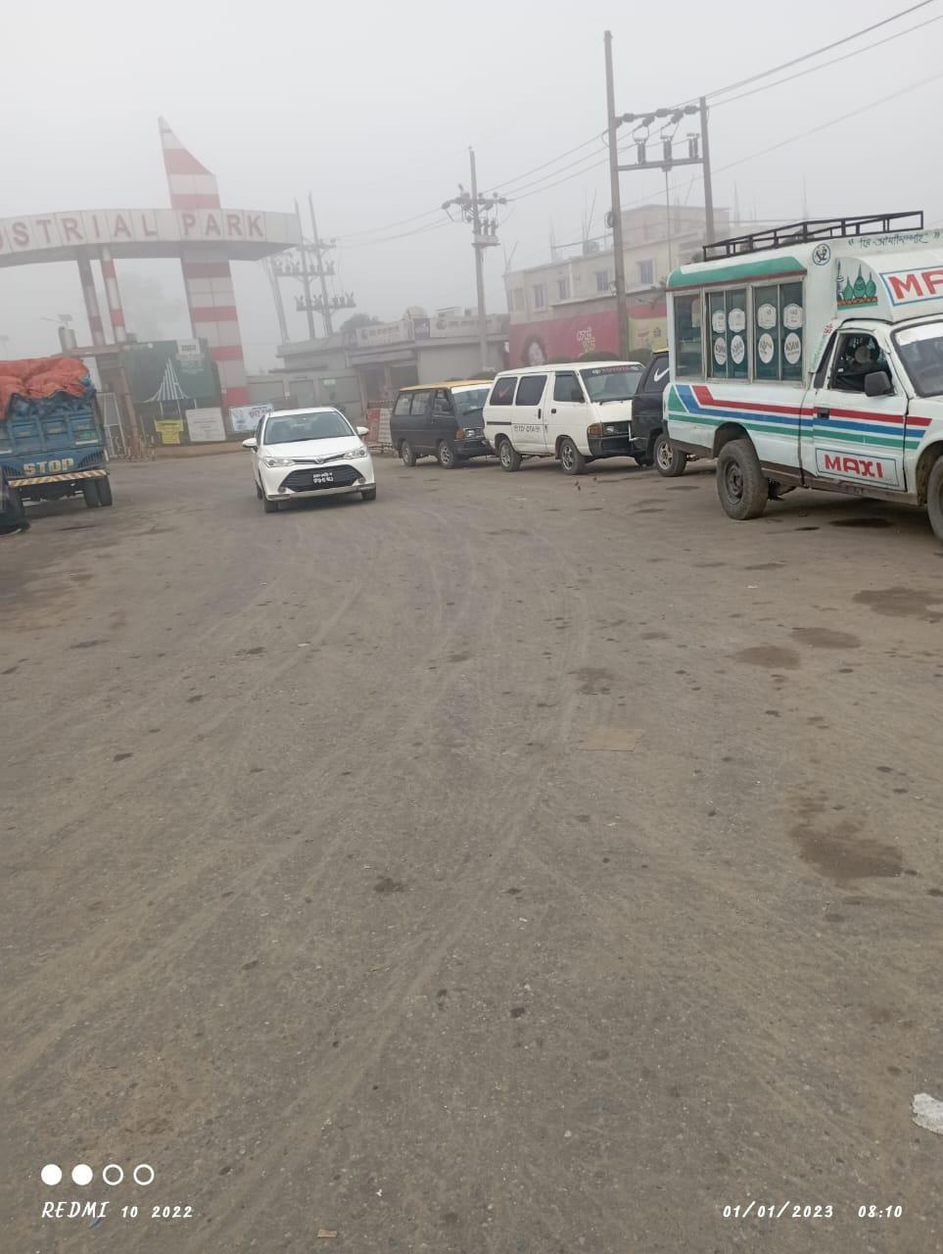Car: (655, 209, 943, 557), (228, 391, 388, 509), (478, 358, 640, 462), (372, 375, 488, 466)
Truck: (1, 350, 126, 521)
